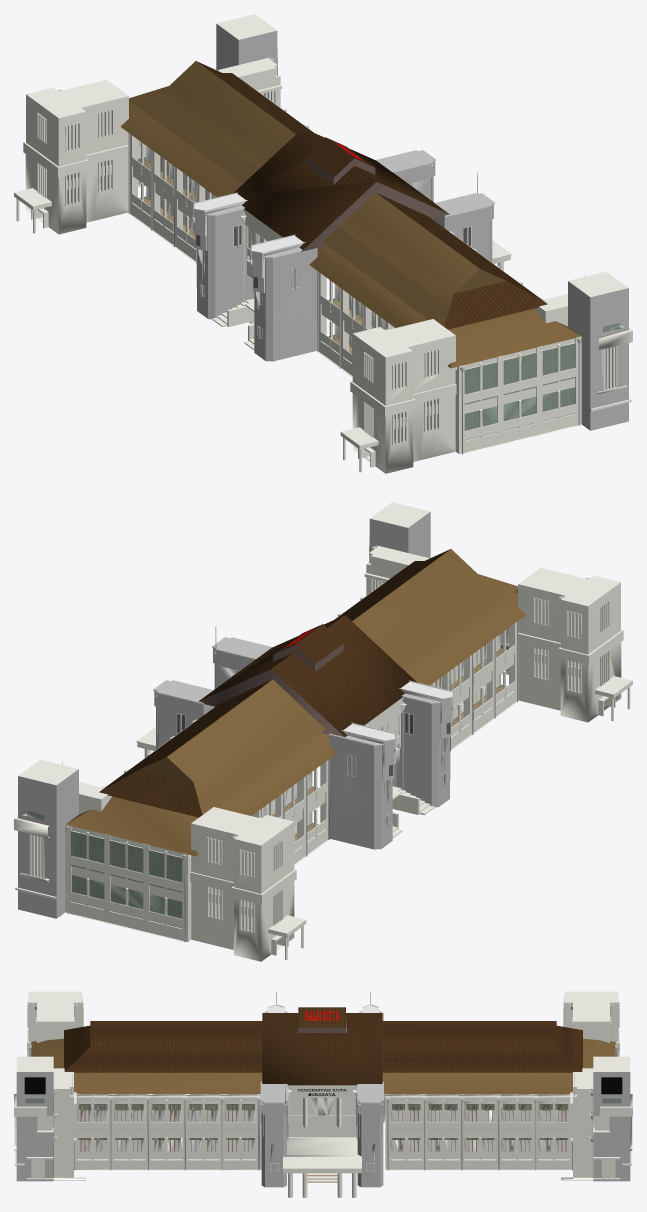
The model's file is BALAI KOTA.fbx.
The picture shows the model from 3 angles, top to bottom: view 1: azimuth 30°, elevation 25°; view 2: azimuth 150°, elevation 25°; view 3: azimuth 270°, elevation 25°; orthographic projection. The views are drawn at different scales.
Visible parts, largest first — view 1: Balai+kota; view 2: Balai+kota; view 3: Balai+kota.
Boxes of the visible parts, box(x1,y1,x2,y2) form: Balai+kota: box(14, 14, 632, 473); Balai+kota: box(14, 502, 632, 961); Balai+kota: box(14, 991, 632, 1197).
Size of the model in its own units: 4850 by 2517 by 10562.
Materials: 20 (3 with a texture image).
